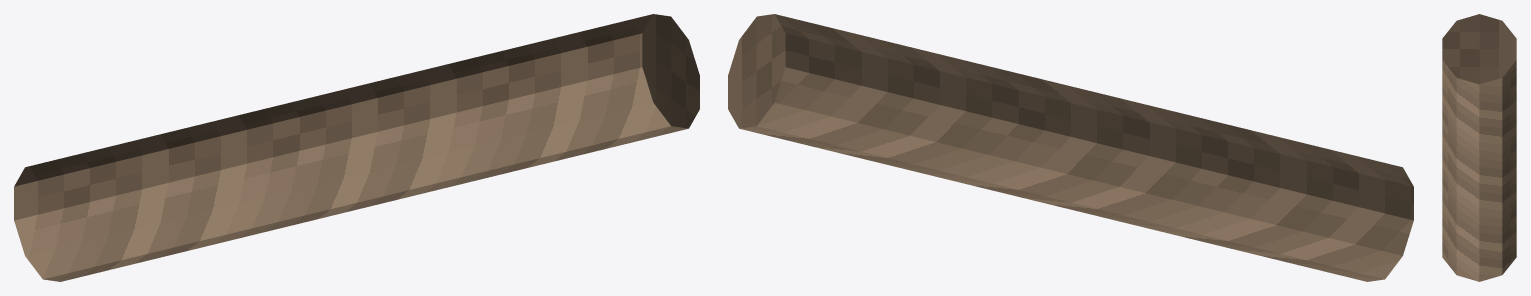
File: log.glb
3 renders of one model, left to right at view 1: azimuth 30°, elevation 25°; view 2: azimuth 150°, elevation 25°; view 3: azimuth 270°, elevation 25°, orthographic. The views are drawn at different scales.
Bounding box in the file's own units: 3 × 0.5 × 0.4755.
Materials: 1 (1 with a texture image).
